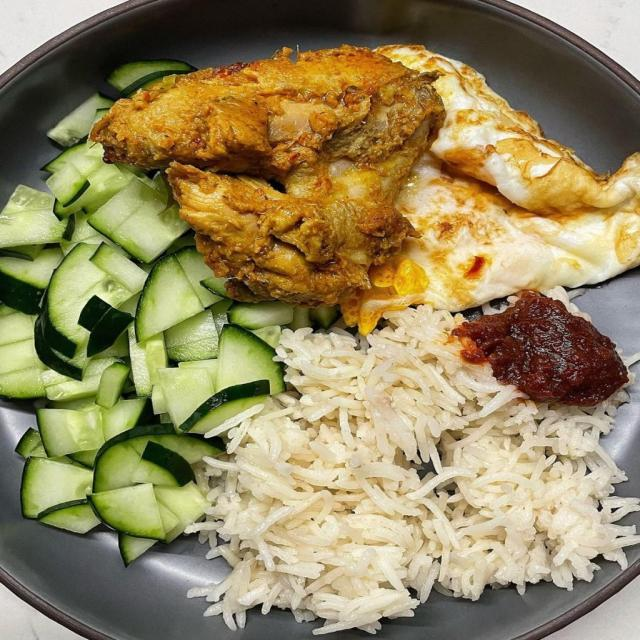Chicken: (113, 48, 443, 304)
Egg: (379, 46, 637, 308)
Rice: (205, 319, 632, 624)
Vegetables: (4, 67, 288, 561)
